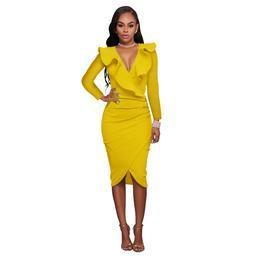dress: (82, 41, 162, 188)
